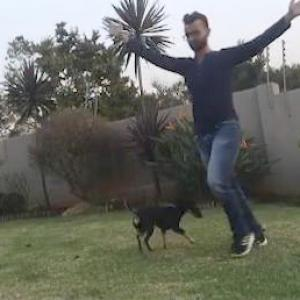takeoff: (133, 0, 299, 233)
